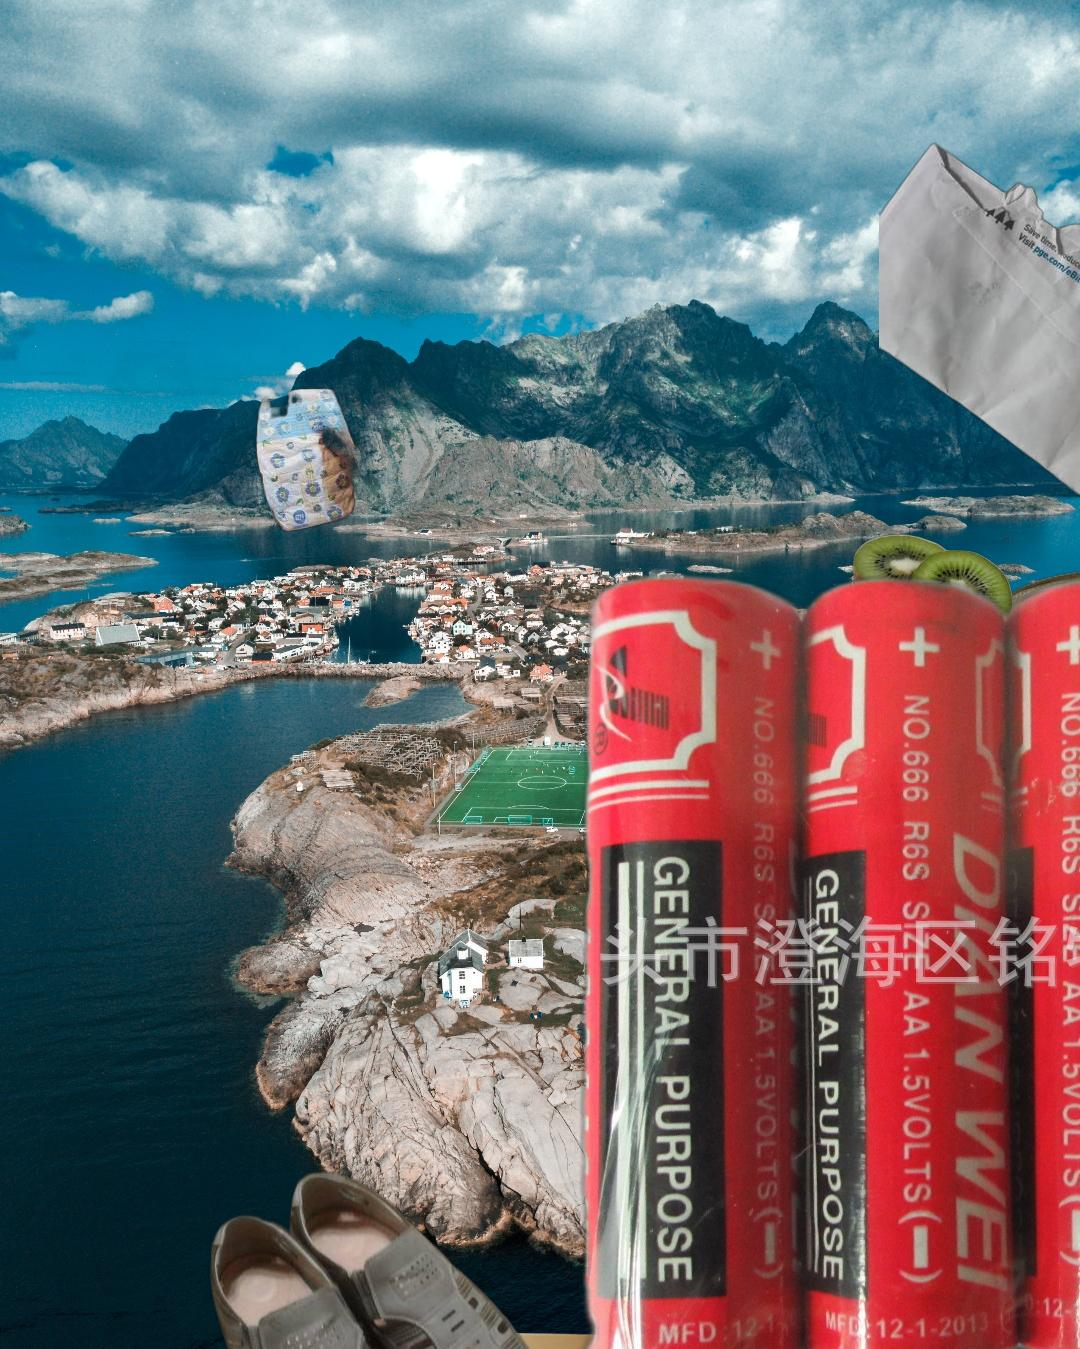battery: (570, 557, 1080, 1349), (156, 1308, 375, 1349)
biological: (850, 531, 1016, 656)
glass: (999, 566, 1080, 884)
paper: (879, 140, 1080, 498)
shoes: (207, 1167, 557, 1349)
trash: (104, 341, 367, 533)
trashbox-cardboard: (221, 1316, 721, 1349)
